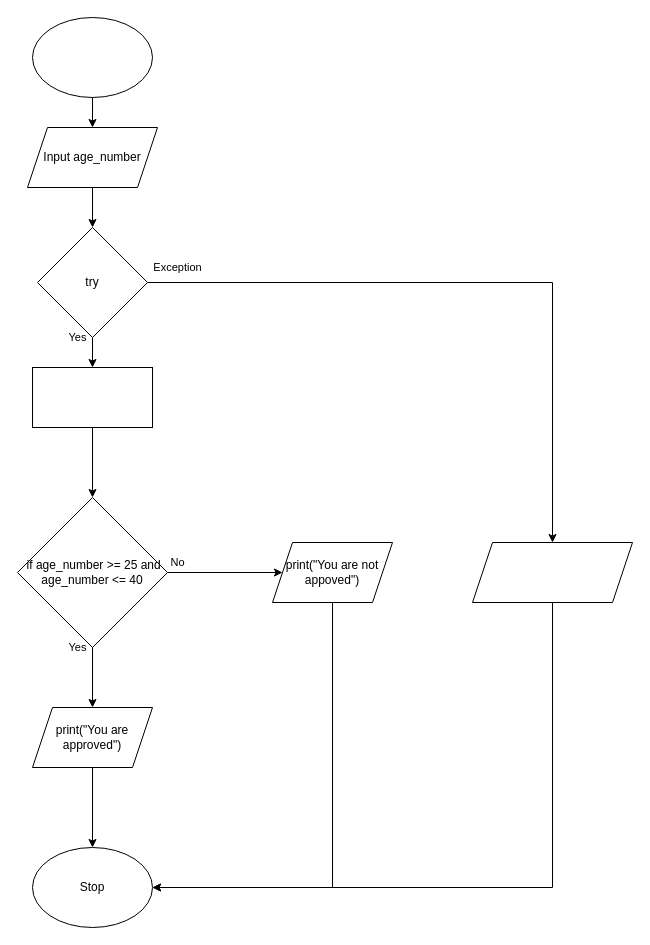
Image size: 650x945. Some labels were removed from this diagram. Each missing label, with the centre of its shape:
convert string to int: [92,397]
print("Please input an integer"): [552,572]
Start: [92,57]
